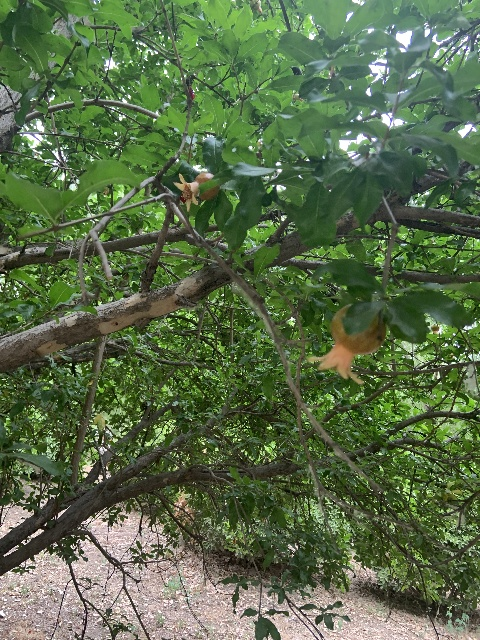early-fruit: (307, 304, 386, 384), (173, 170, 219, 211)
mid-growth: (430, 323, 440, 333)
